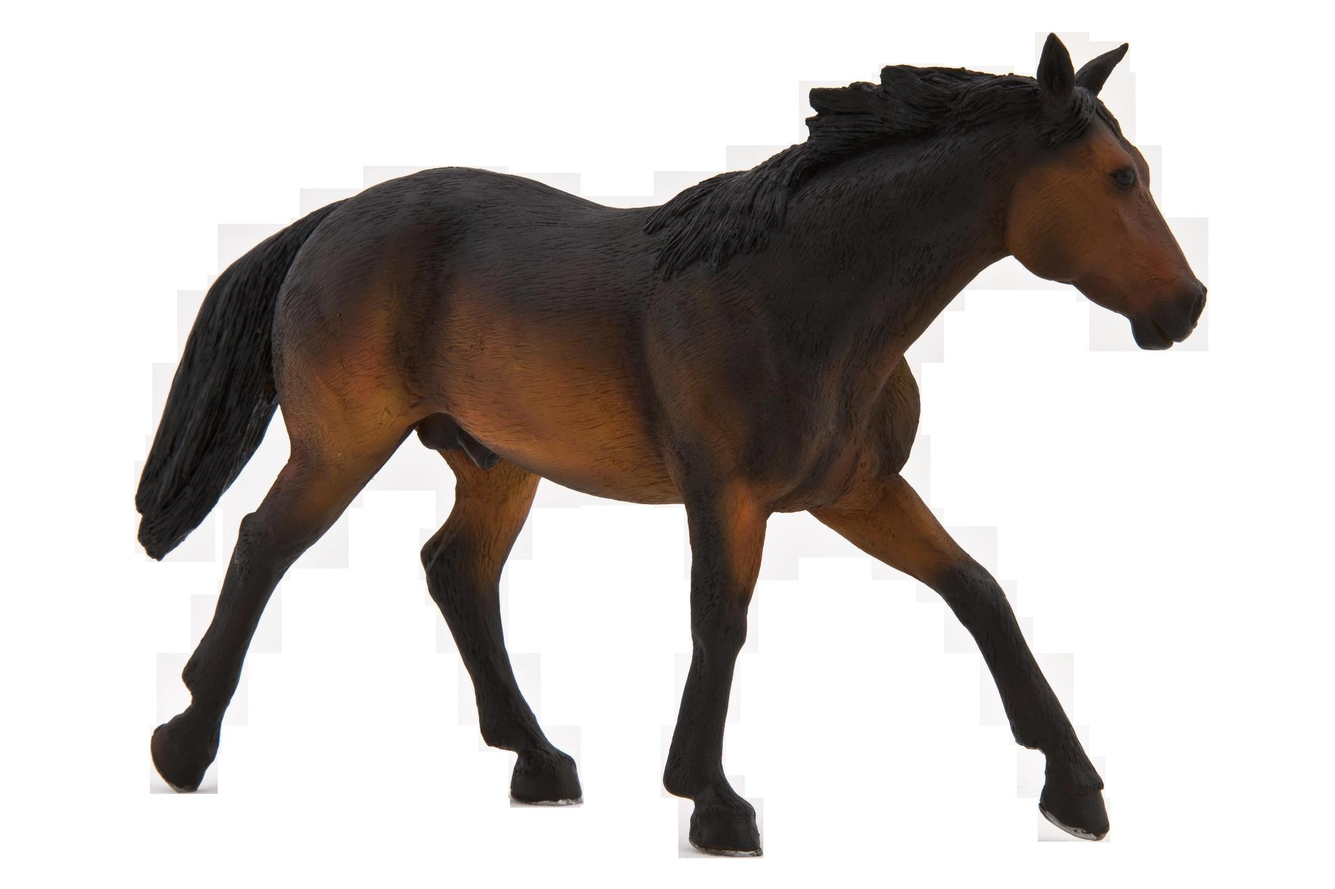horse: (124, 24, 1210, 866)
